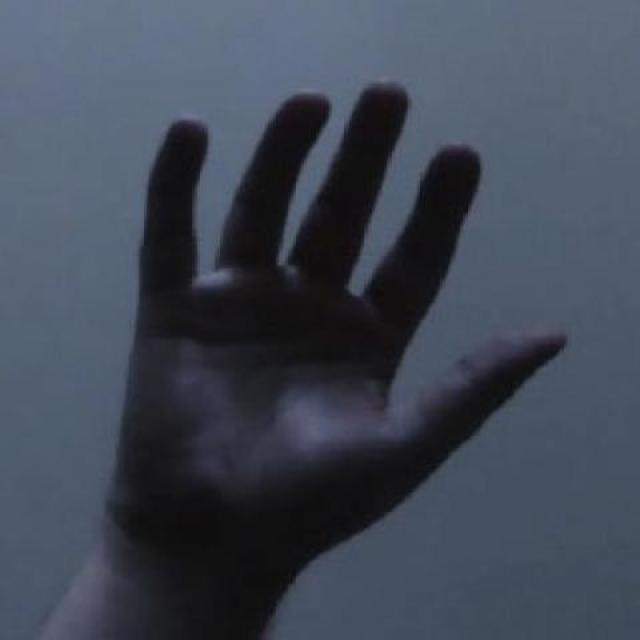Open Hand: (78, 70, 580, 640)
